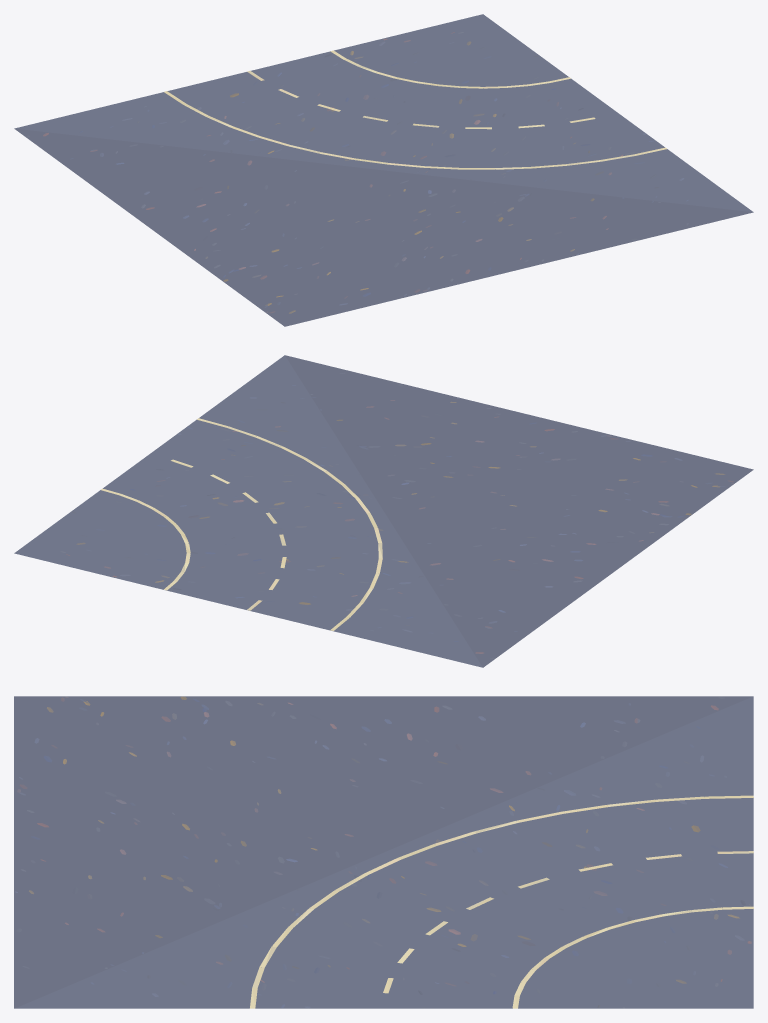
The model's file is HK_RoadSurf_Turn.glb.
The picture shows the model from 3 angles, top to bottom: view 1: azimuth 30°, elevation 25°; view 2: azimuth 150°, elevation 25°; view 3: azimuth 270°, elevation 25°; orthographic projection. The views are drawn at different scales.
Visible parts, largest first — view 1: HK_RoadSurf_Turn; view 2: HK_RoadSurf_Turn; view 3: HK_RoadSurf_Turn.
Boxes of the visible parts, x1,y1,x2,y2 form: HK_RoadSurf_Turn: (14, 14, 753, 326); HK_RoadSurf_Turn: (14, 355, 753, 667); HK_RoadSurf_Turn: (14, 696, 753, 1008).
Bounding box in the file's own units: 20 × 0.0143 × 20.
